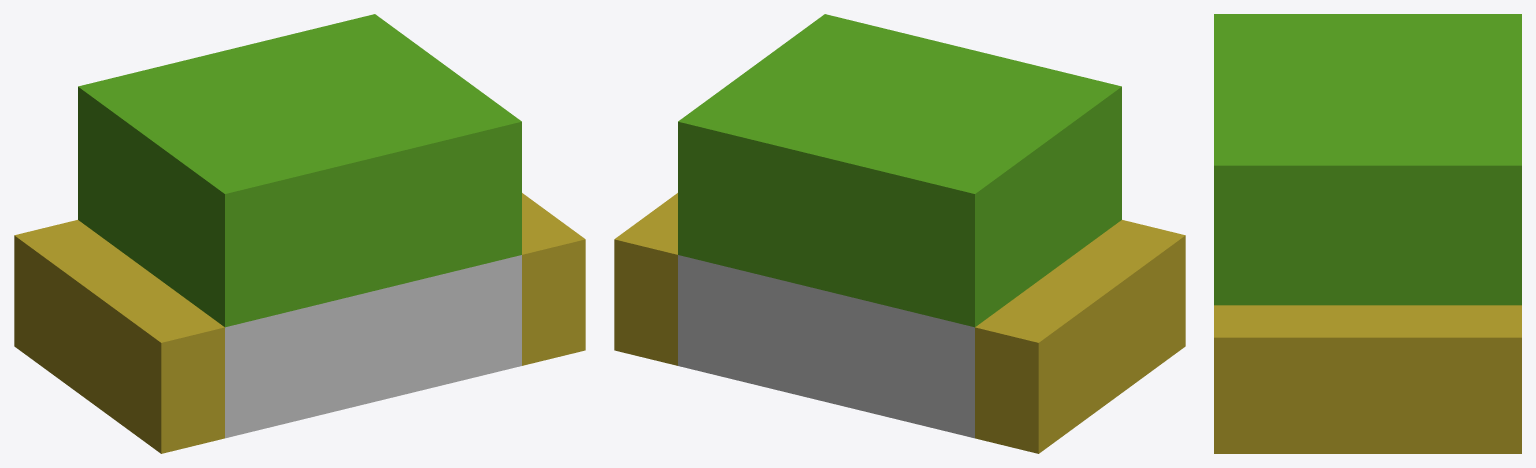
Rendered from __mod__.glb.
3 renders of one model, left to right at view 1: azimuth 30°, elevation 25°; view 2: azimuth 150°, elevation 25°; view 3: azimuth 270°, elevation 25°, orthographic. The views are drawn at different scales.
Visible parts, largest first — view 1: Plane; view 2: Plane; view 3: Plane.
Part boxes in pixels (<box>): Plane: <box>14,14,585,453</box>; Plane: <box>614,14,1185,453</box>; Plane: <box>1214,14,1521,453</box>.
Bounding box in the file's own units: 0.002 × 0.0011 × 0.0012.
